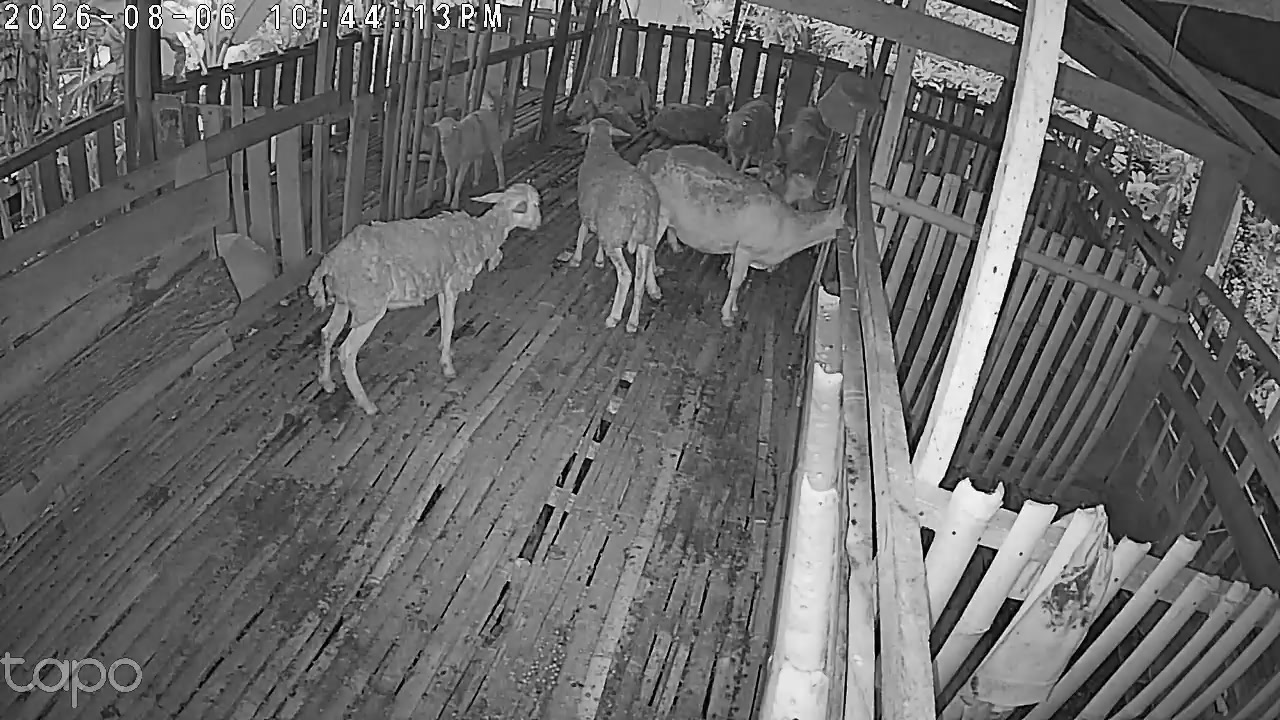sheep: (301, 185, 561, 415), (640, 145, 845, 330), (570, 120, 665, 335), (720, 100, 780, 170), (410, 98, 470, 168)
